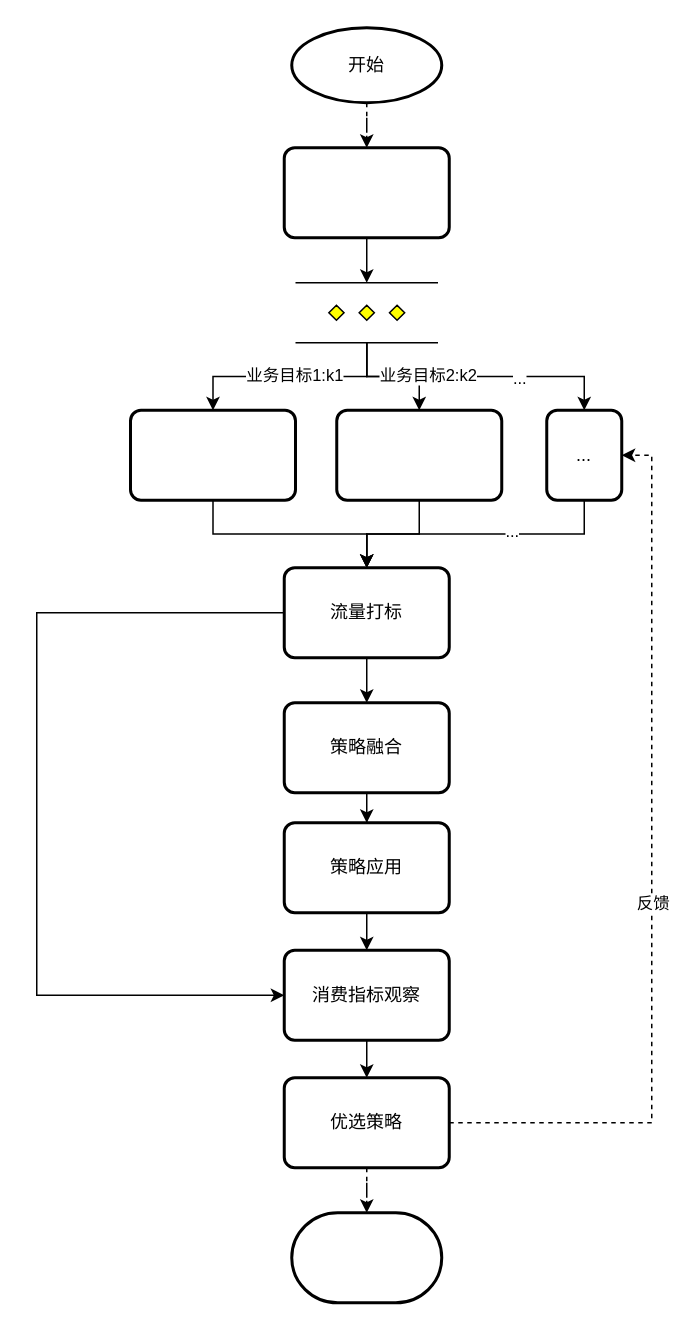
The diagram is 695 pixels wide and 1329 high, and some of its shapes have lost their labels. Each missing label, with the box of its shape:
流量识别: (282, 146, 450, 238)
策略选择:st2: (128, 408, 296, 501)
策略选择:st{x}: (334, 408, 502, 501)
结束: (290, 1210, 442, 1304)
